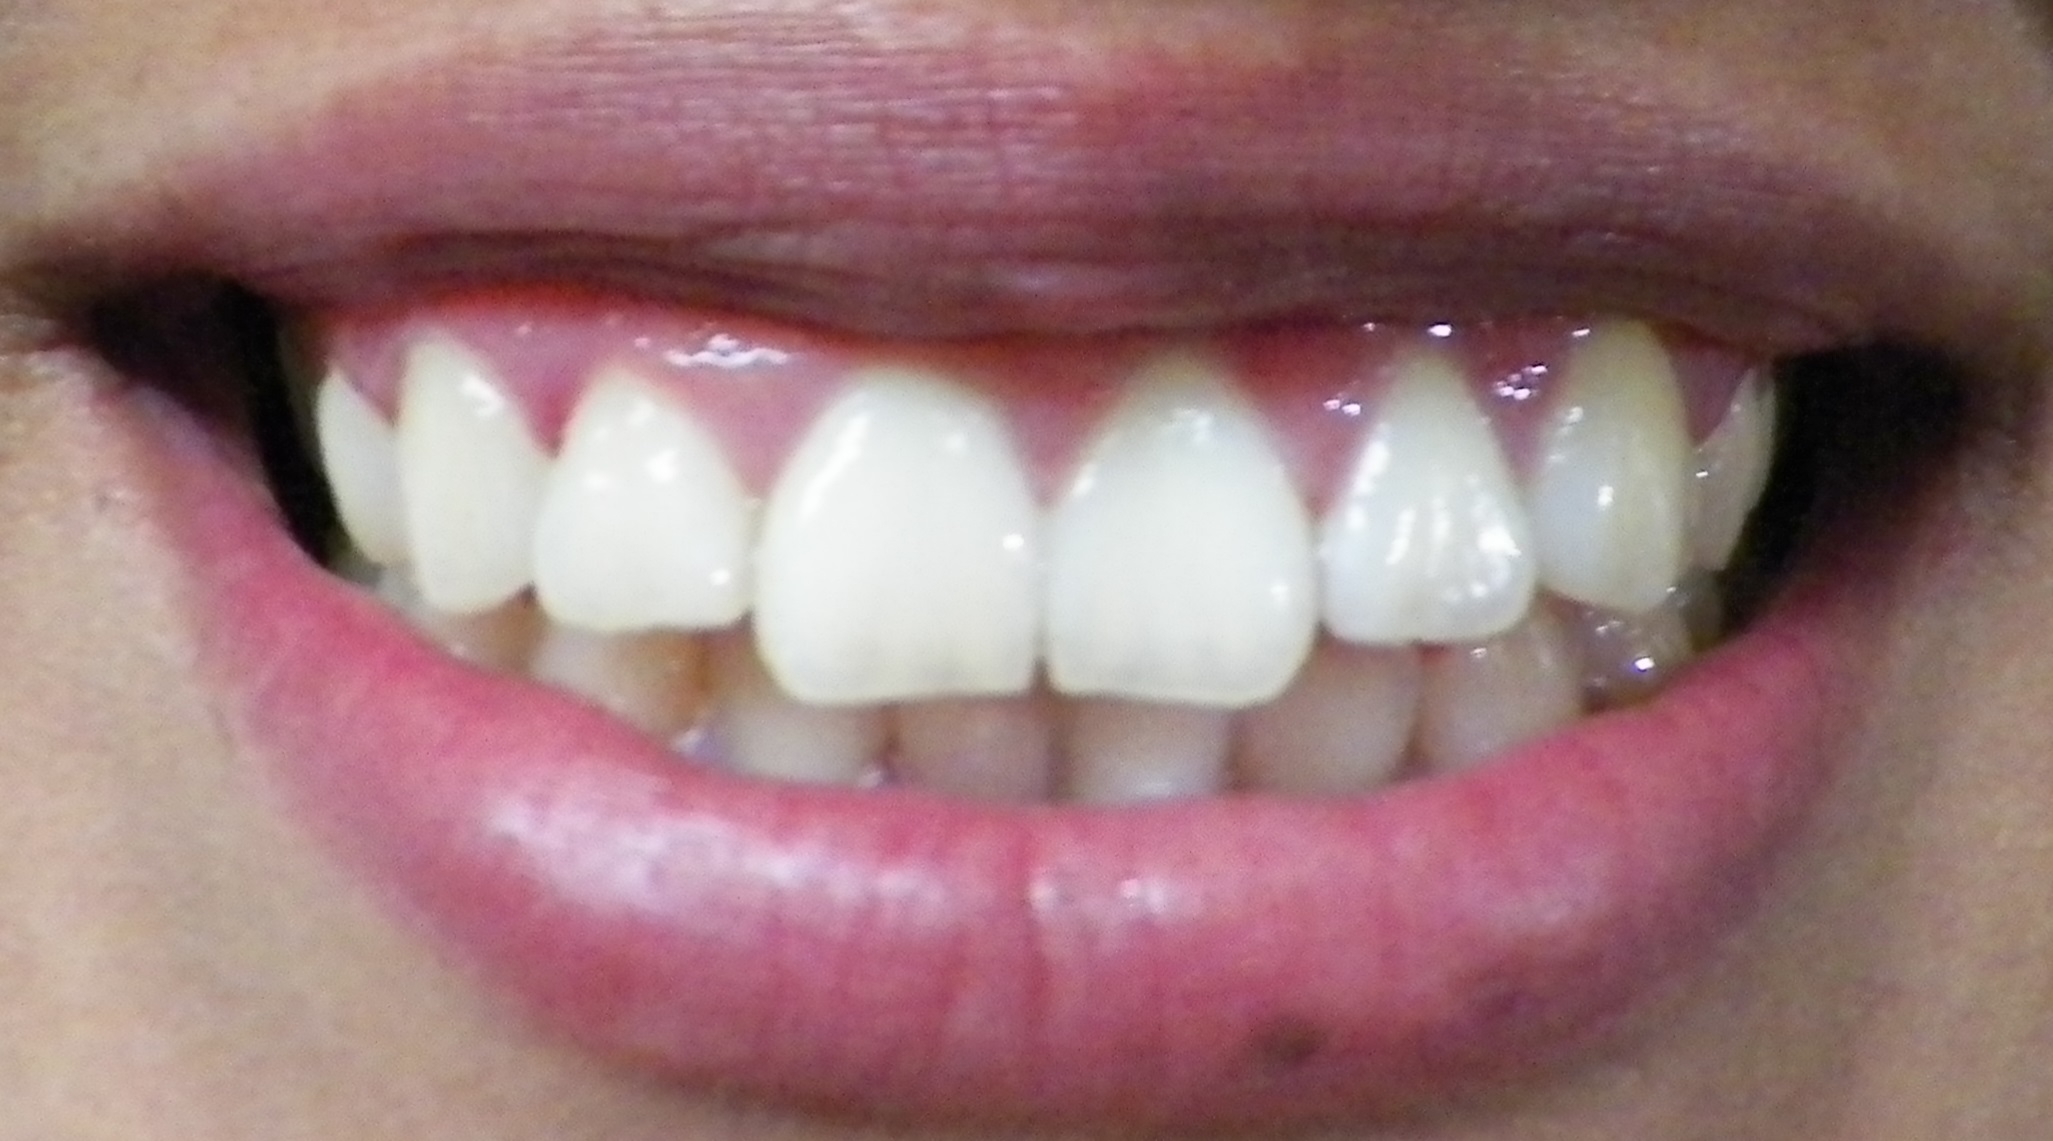boca: (289, 306, 1797, 795)
